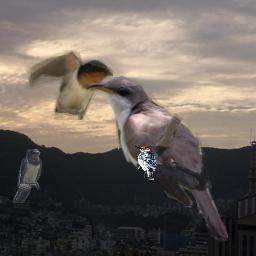Cuckoo: (85, 73, 228, 244)
Swallow: (26, 50, 113, 120), (13, 149, 42, 203)
Woodpecker: (133, 144, 157, 180)
